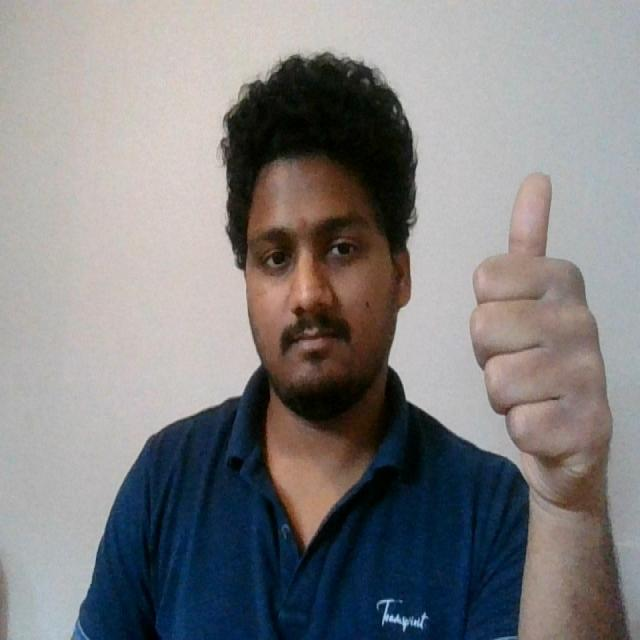Yes: (460, 160, 627, 522)
